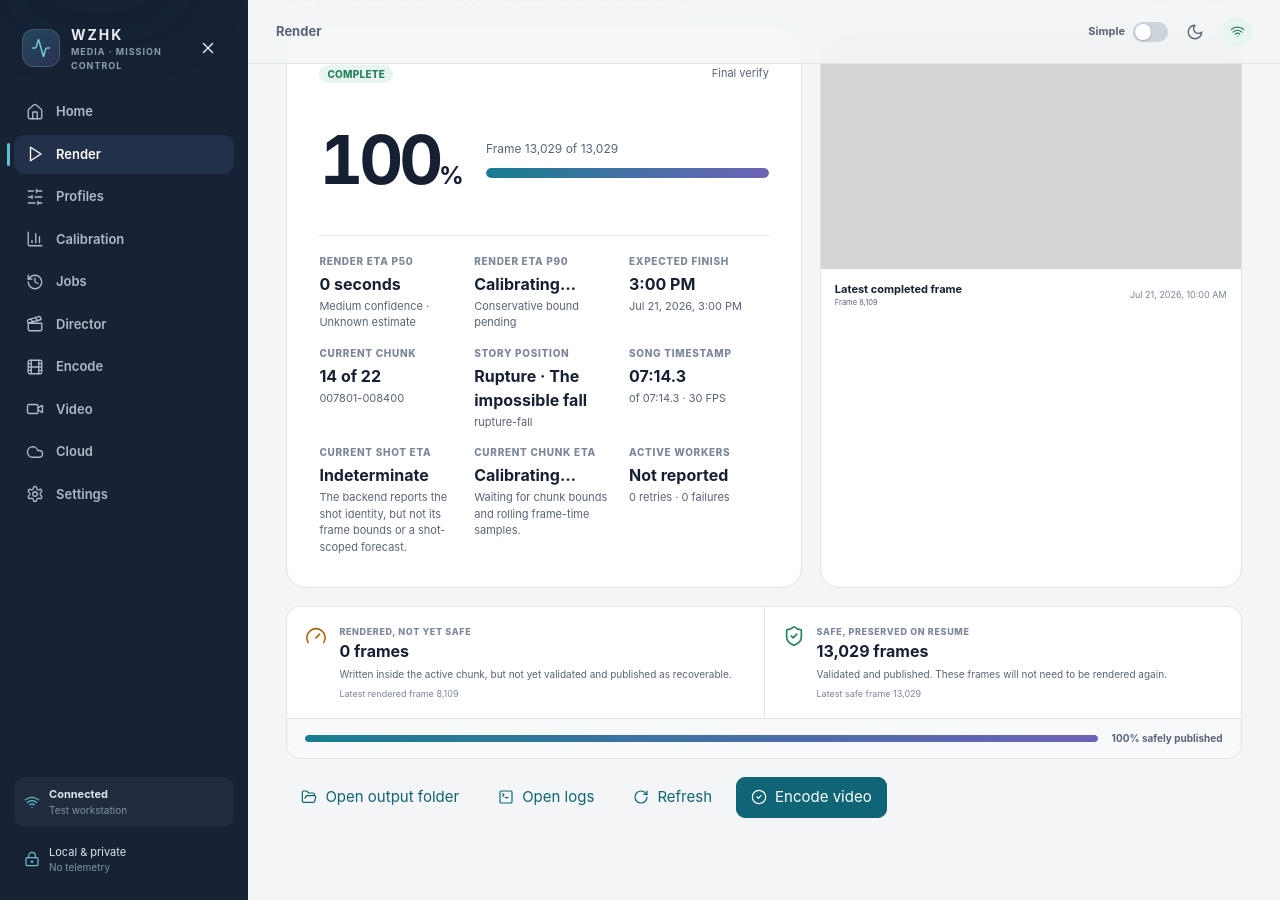
MissionControlApp › refreshes verified encode candidates before leaving a completed render
This screenshot has width=1280, height=900.
(page scrolled)
Click the button "Encode video".
click(811, 797)  # box [736,777,887,818]
(page scrolled)
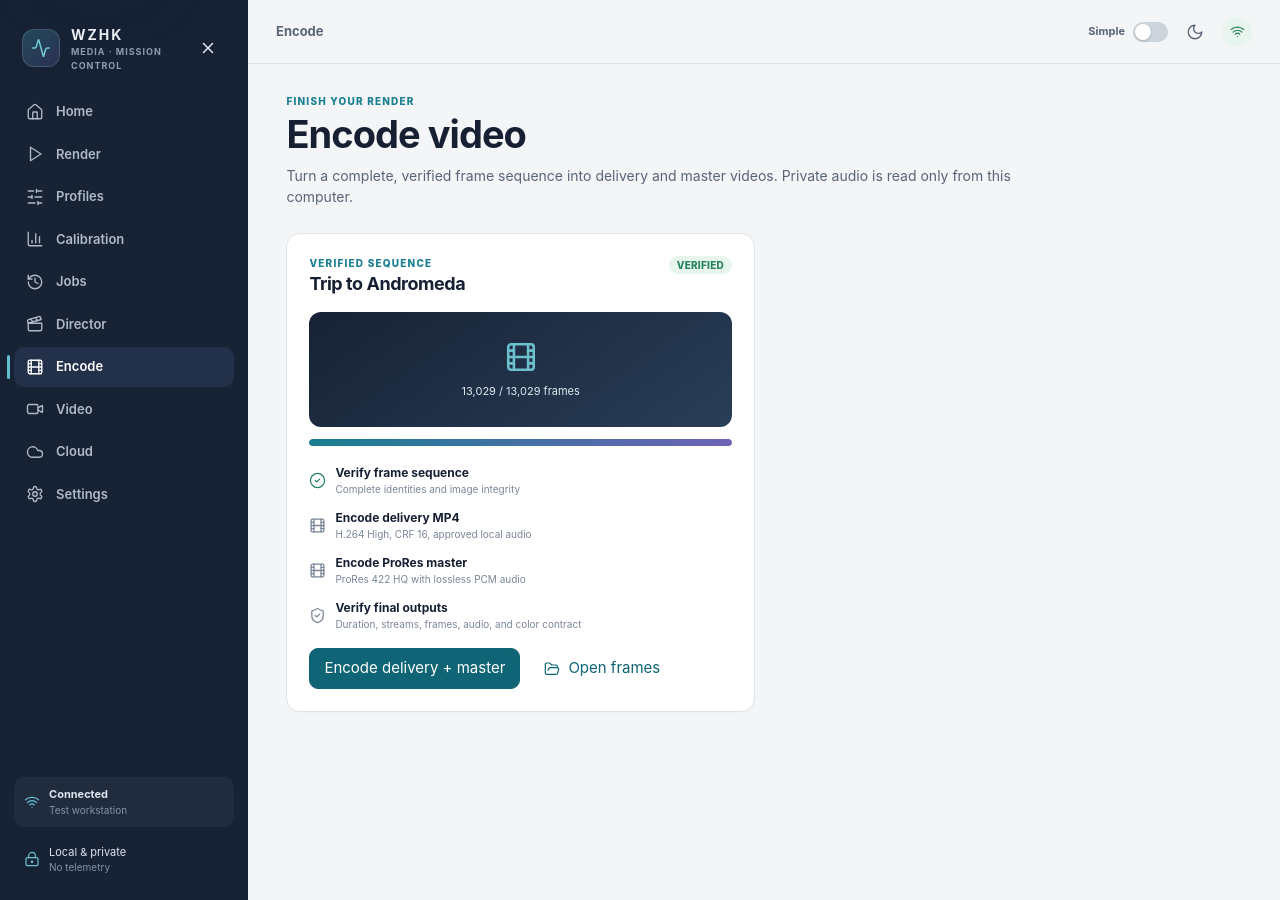
Expected: the heading "Trip to Andromeda" is shown, [309,274,465,294]
Expected: the text "13,029 / 13,029 frames" is shown, [462,383,580,400]
